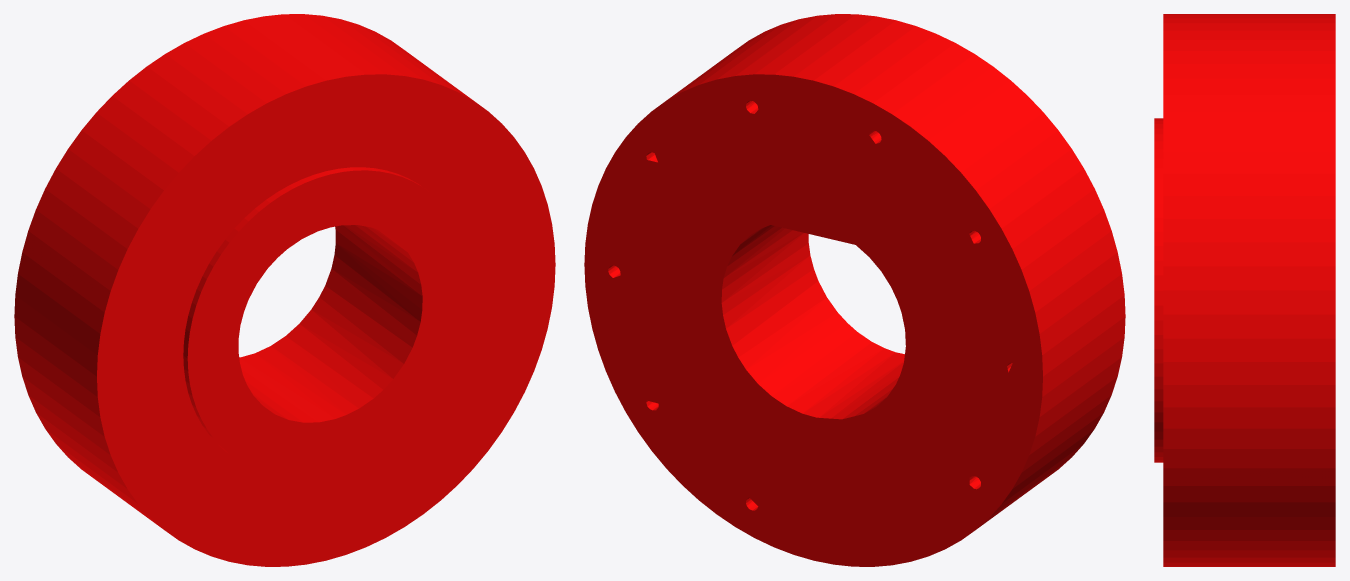
The model's file is legs_1_right_leg_1_x10_2_outer_1.glb.
3 views of the same model, side by side, from view 1: azimuth 30°, elevation 25°; view 2: azimuth 150°, elevation 25°; view 3: azimuth 270°, elevation 25° (orthographic). The views are drawn at different scales.
Parts seen in each view (by area): view 1: legs_1_right_leg_1_x10_2_outer_1.obj; view 2: legs_1_right_leg_1_x10_2_outer_1.obj; view 3: legs_1_right_leg_1_x10_2_outer_1.obj.
Boxes of the visible parts, x1,y1,x2,y2 form: legs_1_right_leg_1_x10_2_outer_1.obj: (14,14,555,566); legs_1_right_leg_1_x10_2_outer_1.obj: (584,14,1125,566); legs_1_right_leg_1_x10_2_outer_1.obj: (1154,14,1335,566).
Size of the model in its own units: 0.122 by 0.122 by 0.04.
